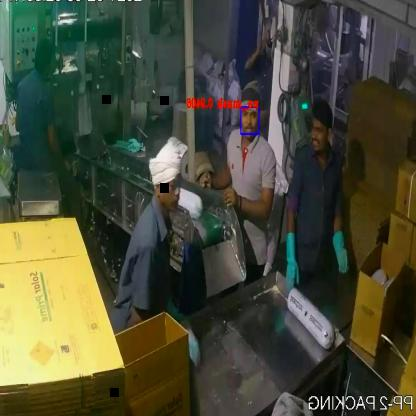glove: (320, 221, 353, 282), (278, 226, 303, 297)
no_glove: (223, 173, 278, 228), (198, 156, 243, 197), (42, 121, 68, 174)
